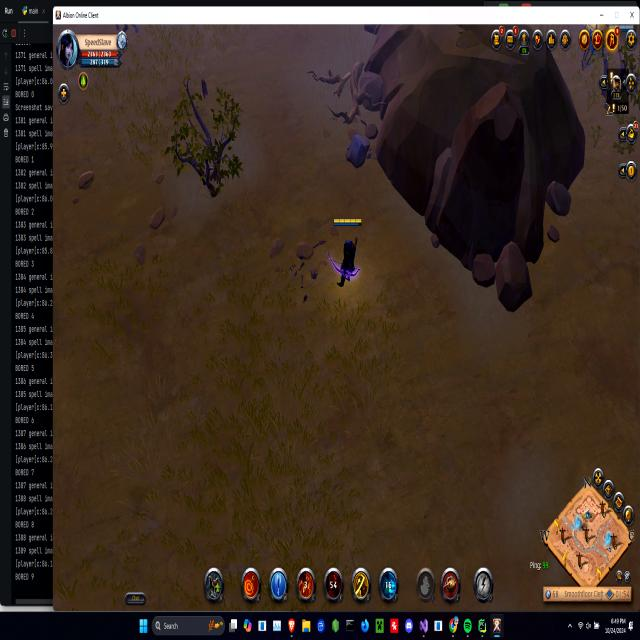red: (327, 206, 366, 297)
